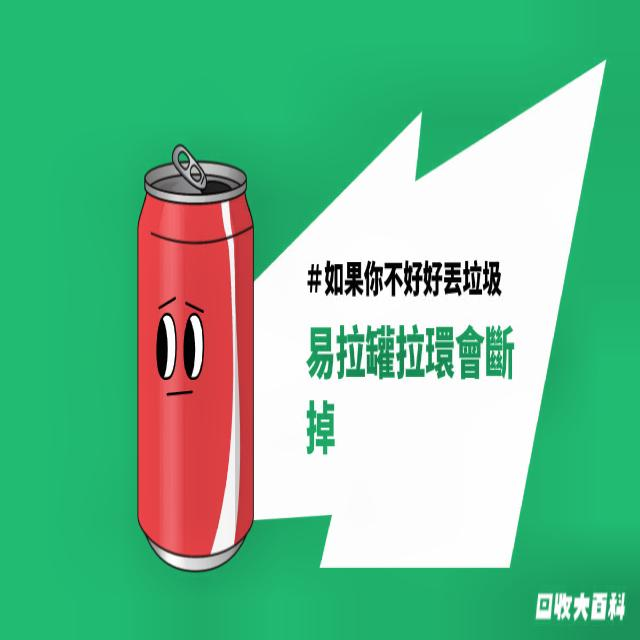can: (133, 129, 261, 578)
